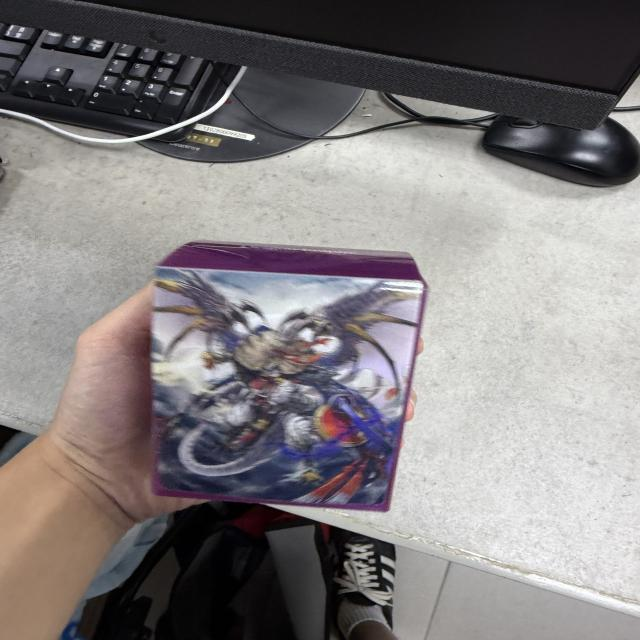box: (146, 234, 430, 516)
